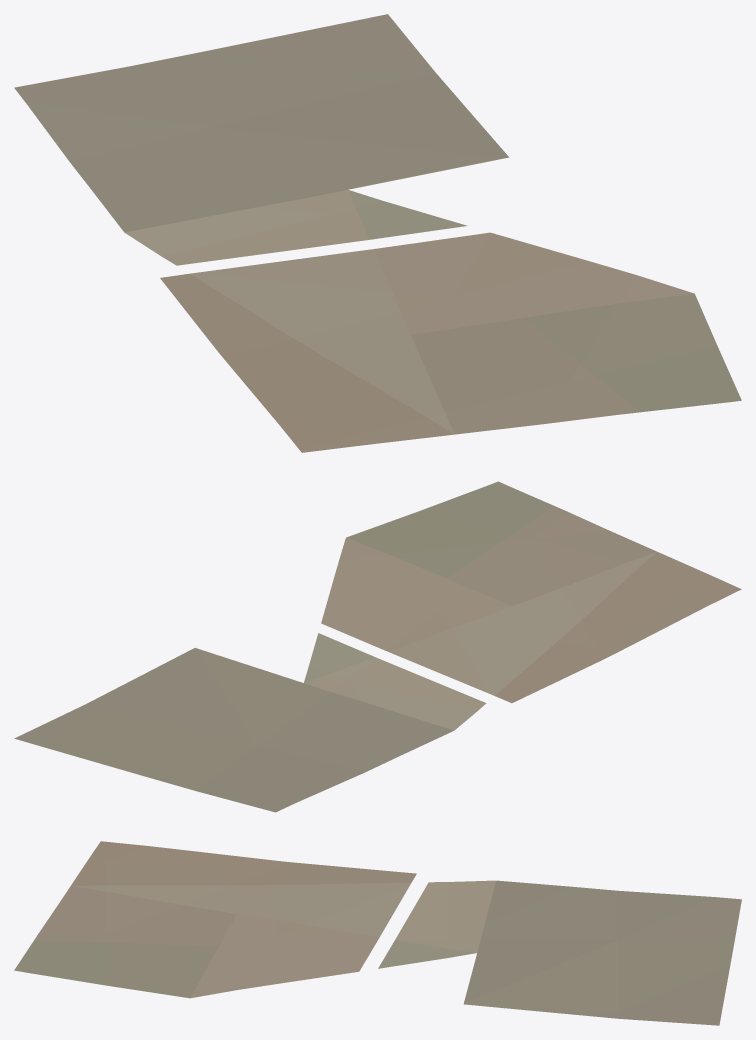
The model's file is farm_6_-1_soil.glb.
3 views of the same model, one above another, from view 1: azimuth 30°, elevation 25°; view 2: azimuth 150°, elevation 25°; view 3: azimuth 270°, elevation 25° (orthographic). The views are drawn at different scales.
Parts seen in each view (by area): view 1: geometry_0; view 2: geometry_0; view 3: geometry_0.
Boxes of the visible parts, left/top/right/bottom form: geometry_0: left=14, top=14, right=741, bottom=452; geometry_0: left=14, top=481, right=741, bottom=812; geometry_0: left=14, top=841, right=741, bottom=1025.
Bounding box in the file's own units: 201 × 4.03 × 341.
